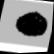correct: (12, 7, 52, 41)
